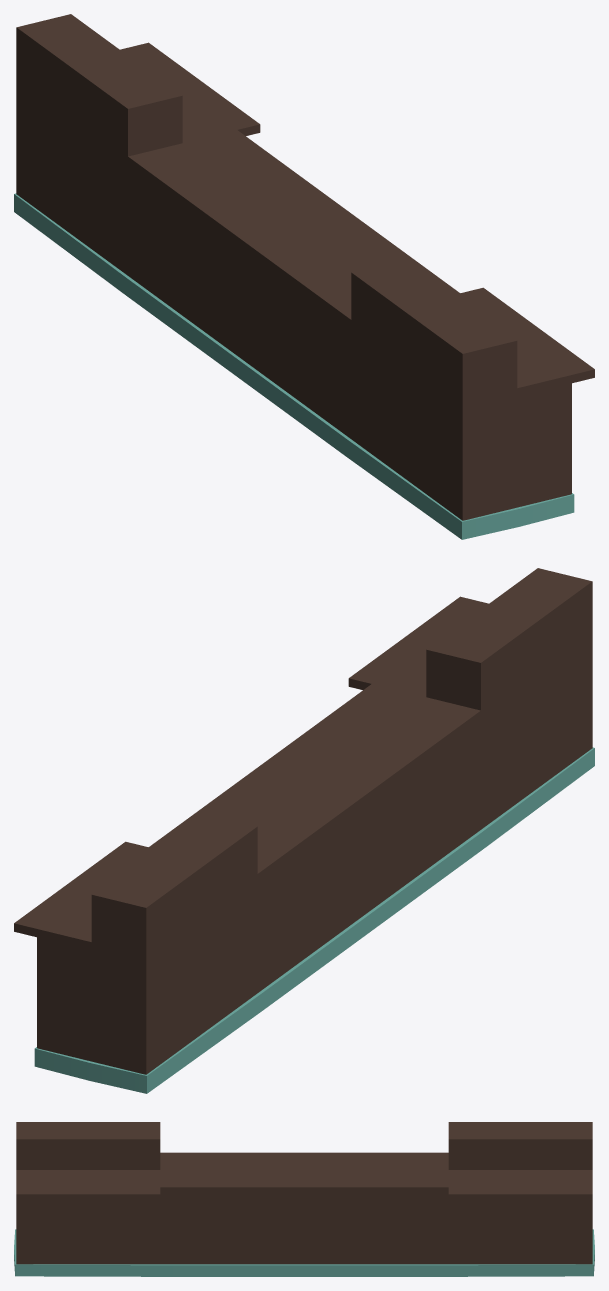
Rendered from counter.fbx.
The picture shows the model from 3 angles, top to bottom: view 1: azimuth 30°, elevation 25°; view 2: azimuth 150°, elevation 25°; view 3: azimuth 270°, elevation 25°; orthographic projection. The views are drawn at different scales.
Parts seen in each view (by area): view 1: pasted__counter; view 2: pasted__counter; view 3: pasted__counter.
Part boxes in pixels (x1,y1,x2,y2): pasted__counter: [14, 14, 594, 539]; pasted__counter: [14, 568, 594, 1093]; pasted__counter: [14, 1122, 594, 1276].
Size of the model in its own units: 2.82 by 3.68 by 16.21.
